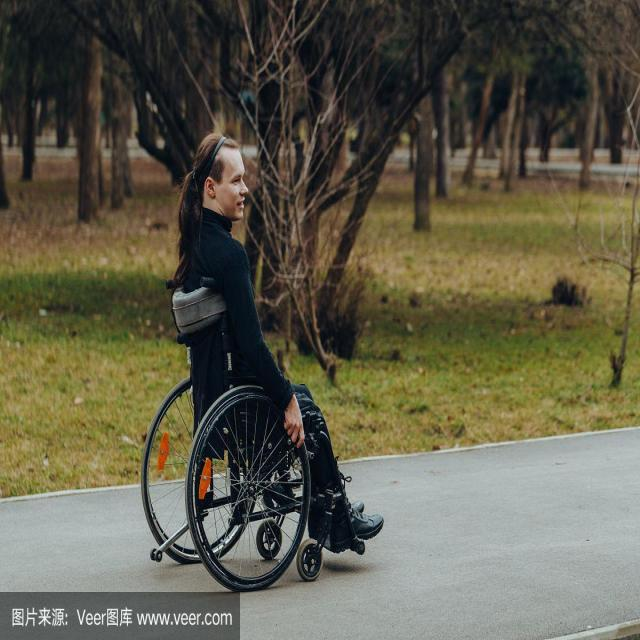wheelchairs: (130, 269, 376, 592)
